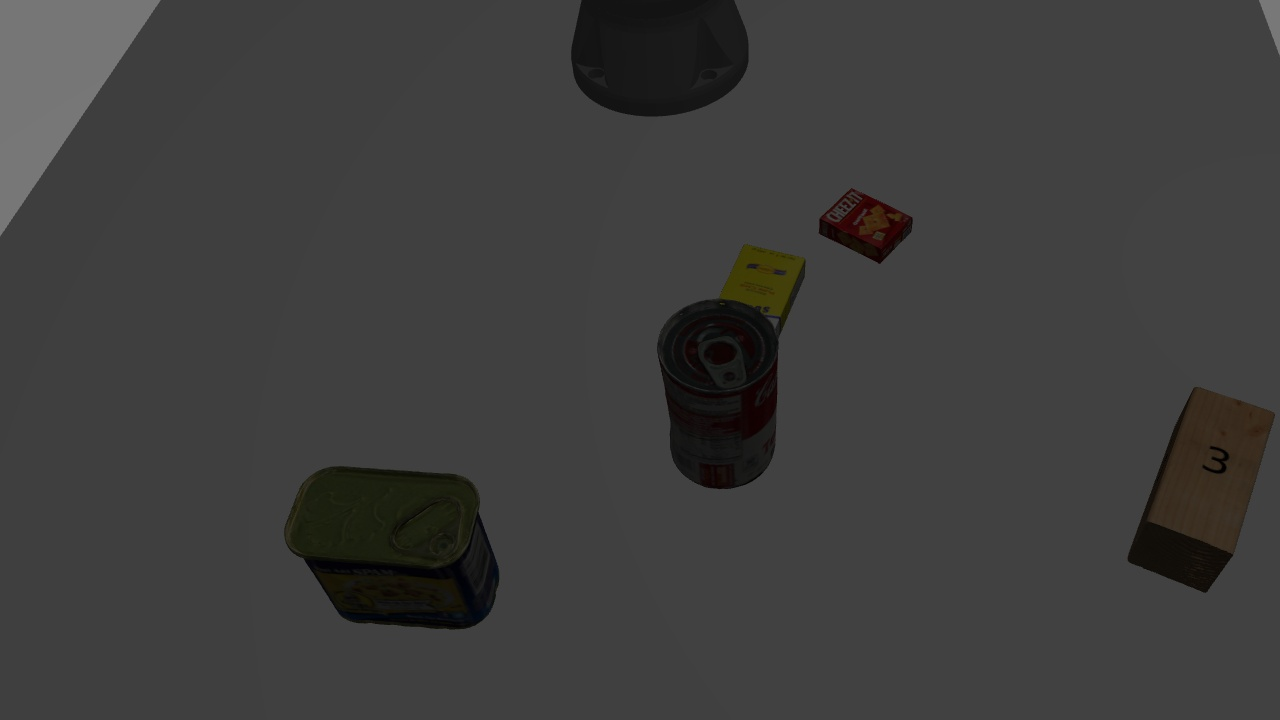cracker_box: (818, 184, 928, 263)
jenga: (703, 233, 808, 359)
potted_meat_can: (281, 458, 509, 635)
sugar_box: (709, 238, 819, 354)
tomato_soup_can: (650, 293, 784, 498)
wood_block: (1124, 383, 1274, 595)
